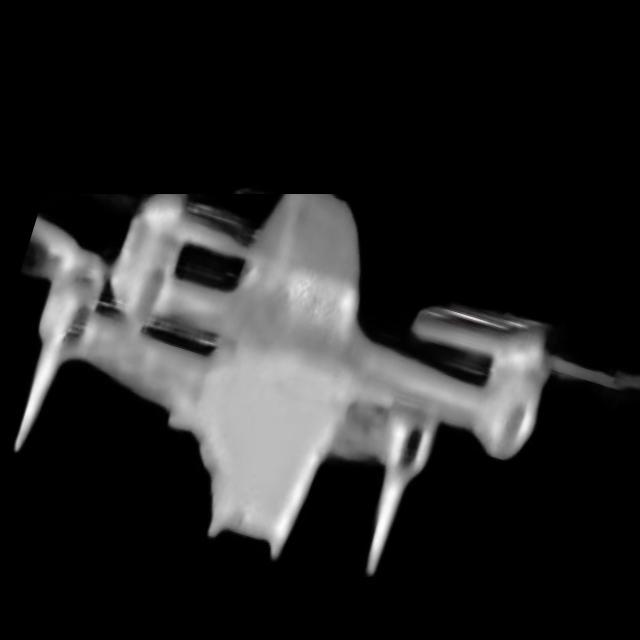drone: (0, 194, 640, 577)
